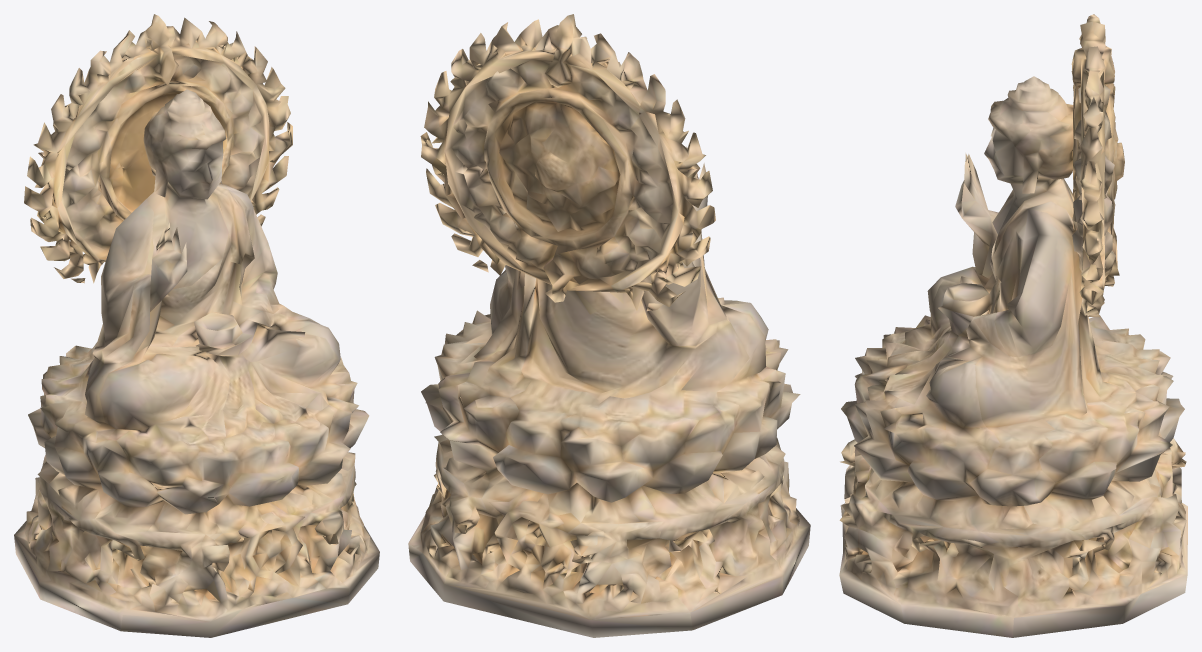
The model's file is far.glb.
3 renders of one model, left to right at view 1: azimuth 30°, elevation 25°; view 2: azimuth 150°, elevation 25°; view 3: azimuth 270°, elevation 25°, orthographic. The views are drawn at different scales.
Parts seen in each view (by area): view 1: four-heavenly-kings-03; view 2: four-heavenly-kings-03; view 3: four-heavenly-kings-03.
Boxes of the visible parts, x1,y1,x2,y2 form: four-heavenly-kings-03: (14,14,379,637); four-heavenly-kings-03: (408,14,810,637); four-heavenly-kings-03: (839,14,1187,637).
Size of the model in its own units: 0.6325 by 0.9947 by 0.5857.
1 material, 1 textured.
